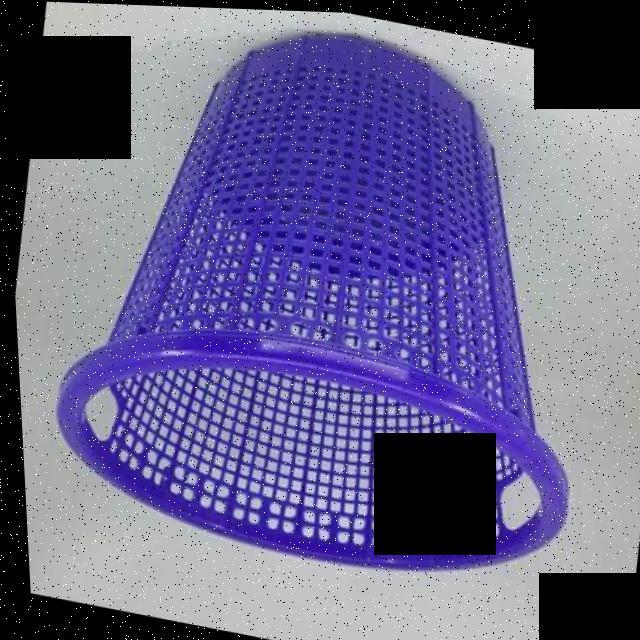bin: (10, 0, 640, 628)
